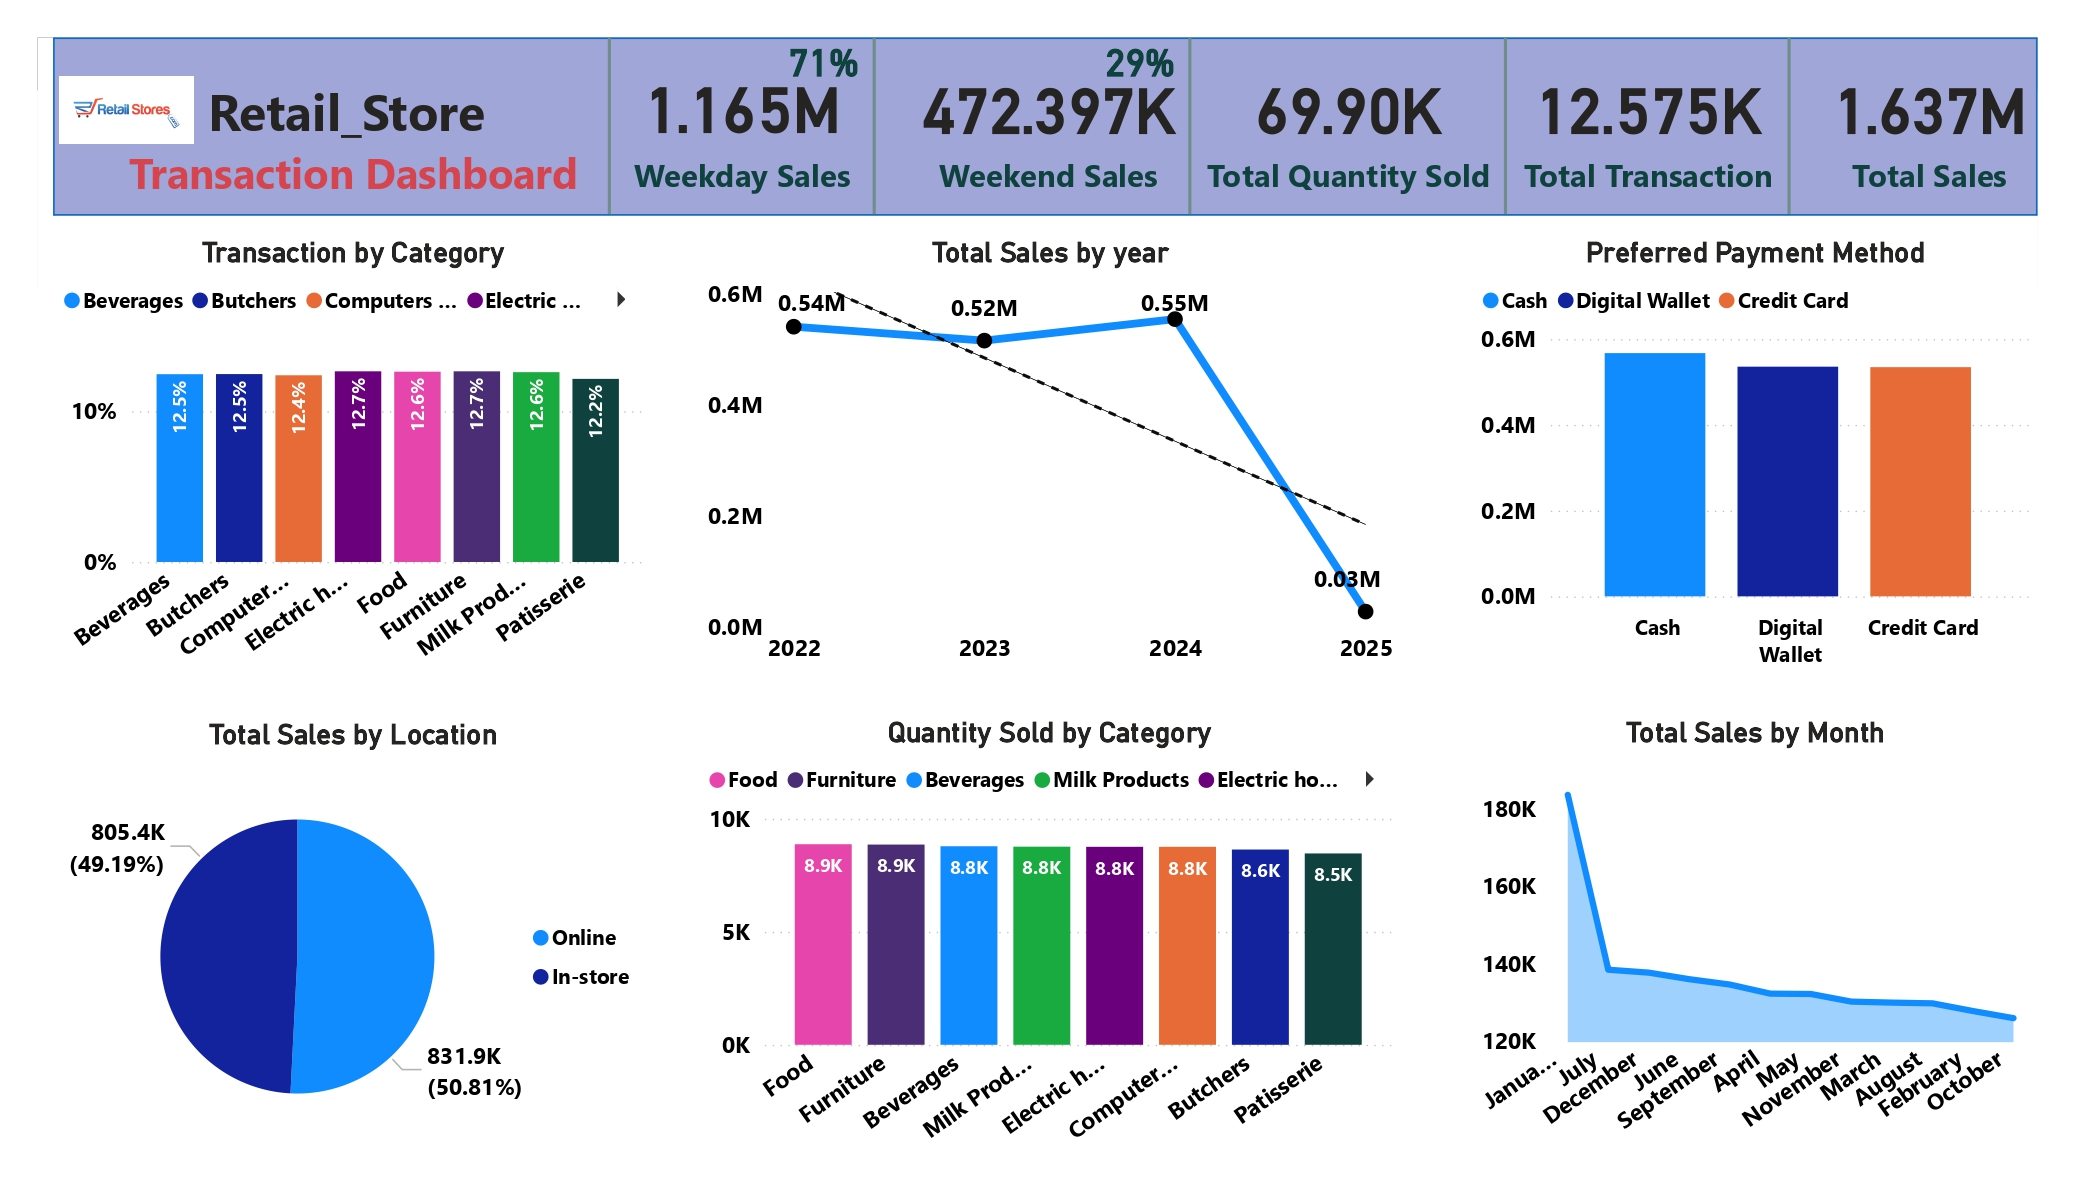

What the dashboard file says about the page in this screenshot:
{"tool":"powerbi","page":{"name":"Page 1","canvas":[1280,720],"ordinal":0},"visuals":[{"type":"shape","box":[10,0,1270,114.2],"z":0},{"type":"image","box":[0,19.7,114.4,53.6],"z":1000},{"type":"textbox","box":[10.7,19.7,382.6,107.3],"z":2000},{"type":"shape","box":[280.7,0,169.8,112.6],"z":3000},{"type":"shape","box":[1036,0,169.8,112.7],"z":4000},{"type":"card","fields":{"Values":["All Dax.Total Sales"]},"box":[1142.3,3.6,137.7,105.5],"z":5000},{"type":"card","fields":{"Values":["All Dax.Total Transaction"]},"box":[904.6,0,252.1,112.6],"z":6000},{"type":"card","fields":{"Values":["All Dax.Total Quantity Sold"]},"box":[738.3,0,202,112.6],"z":7000},{"type":"shape","box":[854.5,0,169.8,112.6],"z":8000},{"type":"card","fields":{"Values":["All Dax.Weekend Sales"]},"box":[556,0,182.3,112.6],"z":9000},{"type":"shape","box":[652.5,0,169.8,112.6],"z":10000},{"type":"card","fields":{"Values":["All Dax.Weekday Sales"]},"box":[366.5,7.2,169.8,98.3],"z":11000},{"type":"shape","box":[450.5,0,169.8,112.6],"z":12000},{"type":"columnChart","title":"Transaction by Category ","fields":{"Category":["retail_store_sales_mysq.Category"],"Y":["All Dax.Total Transaction"],"Series":["retail_store_sales_mysq.Category"]},"box":[10.7,126.7,382.7,284],"z":13000},{"type":"pieChart","fields":{"Category":["retail_store_sales_mysq.Location"],"Y":["All Dax.Total Sales"]},"box":[10.7,434.7,382.7,285.3],"z":14000},{"type":"lineChart","title":"Total Sales by year","fields":{"Category":["retail_store_sales_mysq.Years"],"Y":["All Dax.Total Sales"]},"box":[423.8,127,448.1,284],"z":15000},{"type":"columnChart","title":"Preferred Payment Method","fields":{"Category":["retail_store_sales_mysq.Payment_Method"],"Y":["All Dax.Total Sales"],"Series":["retail_store_sales_mysq.Payment_Method"]},"box":[919,127,361,284],"z":16000},{"type":"lineChart","title":"Total Sales by Month","fields":{"Category":["retail_store_sales_mysq.Months"],"Y":["All Dax.Total Sales"]},"box":[919,433.8,361,286.8],"z":17000},{"type":"columnChart","title":" Quantity Sold by Category ","fields":{"Y":["Sum(retail_store_sales_mysq.Quantity)"],"Category":["retail_store_sales_mysq.Category"],"Series":["retail_store_sales_mysq.Category"]},"box":[423.8,433.8,448.1,286.8],"z":18000},{"type":"card","fields":{"Values":["All Dax.%weekend sales"]},"box":[672.1,0,67.1,31.4],"z":19000},{"type":"card","fields":{"Values":["All Dax.%weekdays salea"]},"box":[469.5,0,67.1,31.4],"z":20000}]}

Visuals, with their boxes in screenshot pixels (x1, y1, x2, y2):
shape: box=[53, 38, 2038, 216]
image: box=[38, 68, 216, 152]
textbox: box=[54, 68, 652, 236]
shape: box=[476, 38, 741, 213]
shape: box=[1656, 38, 1922, 214]
card - All Dax.Total Sales: box=[1822, 43, 2038, 208]
card - All Dax.Total Transaction: box=[1451, 38, 1845, 213]
card - All Dax.Total Quantity Sold: box=[1191, 38, 1507, 213]
shape: box=[1373, 38, 1638, 213]
card - All Dax.Weekend Sales: box=[906, 38, 1191, 213]
shape: box=[1057, 38, 1322, 213]
card - All Dax.Weekday Sales: box=[610, 49, 875, 202]
shape: box=[741, 38, 1007, 213]
"Transaction by Category " columnChart: box=[54, 235, 652, 679]
pieChart - retail_store_sales_mysq.Location x All Dax.Total Sales: box=[54, 717, 652, 1162]
"Total Sales by year" lineChart: box=[700, 236, 1400, 680]
"Preferred Payment Method" columnChart: box=[1473, 236, 2038, 680]
"Total Sales by Month" lineChart: box=[1473, 715, 2038, 1162]
" Quantity Sold by Category " columnChart: box=[700, 715, 1400, 1162]
card - All Dax.%weekend sales: box=[1088, 38, 1192, 87]
card - All Dax.%weekdays salea: box=[771, 38, 876, 87]
